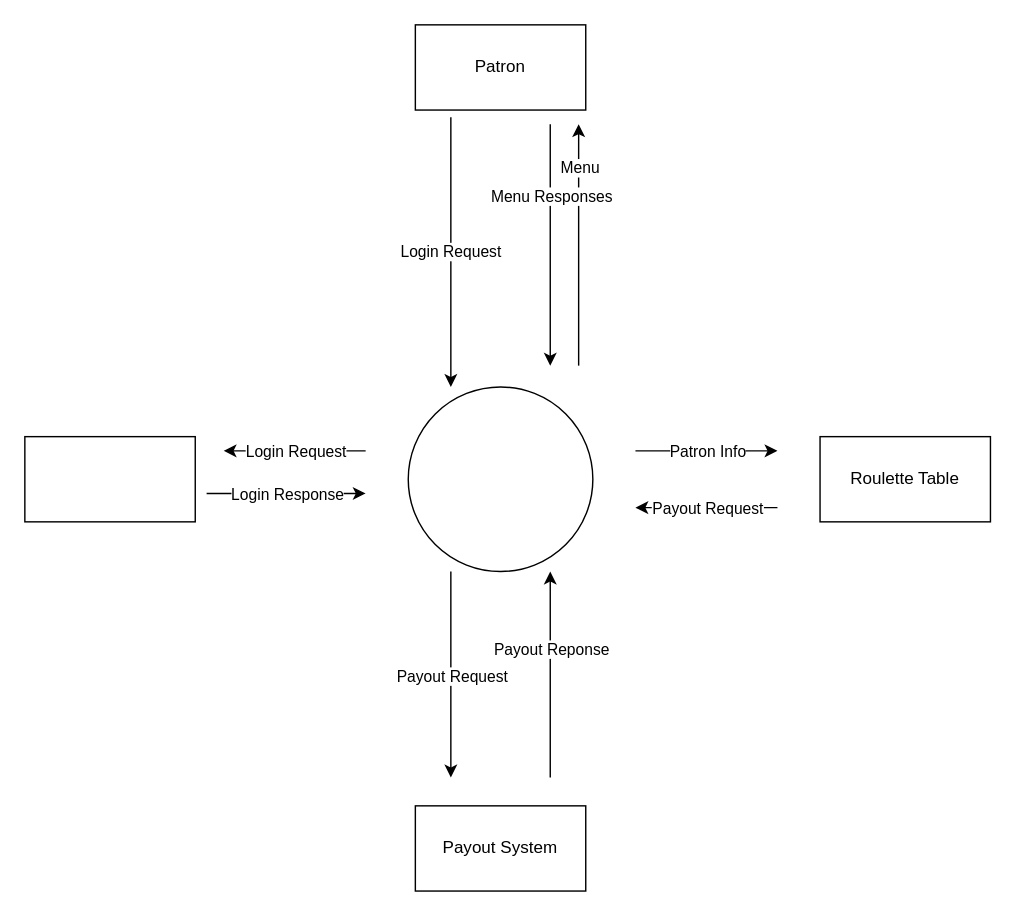
This 1015x916 diagram has some shape labels left out. Here are the shapes that lost their labels. From the top down, the centre of each, then its label:
At [109,478]: "Patron Manager".
At [500,479]: "Casino De Science".
